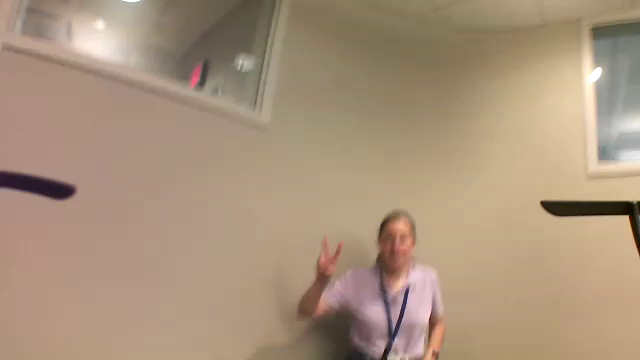peace: (310, 225, 352, 280)
